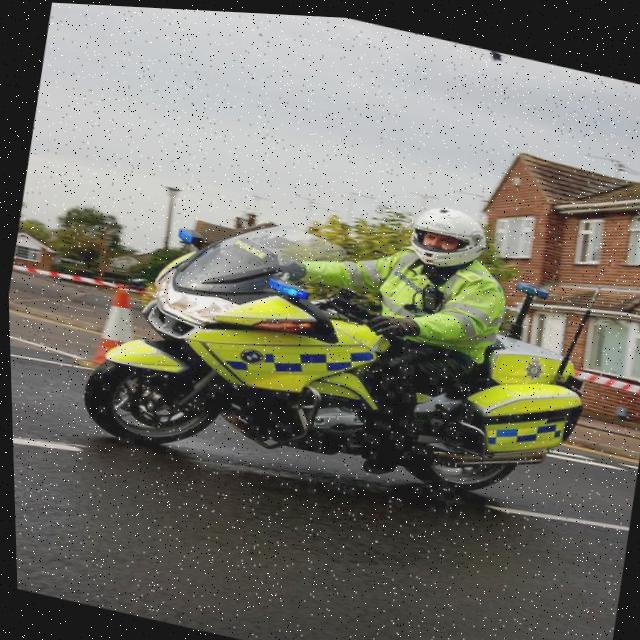motorcycle: (66, 172, 610, 548)
